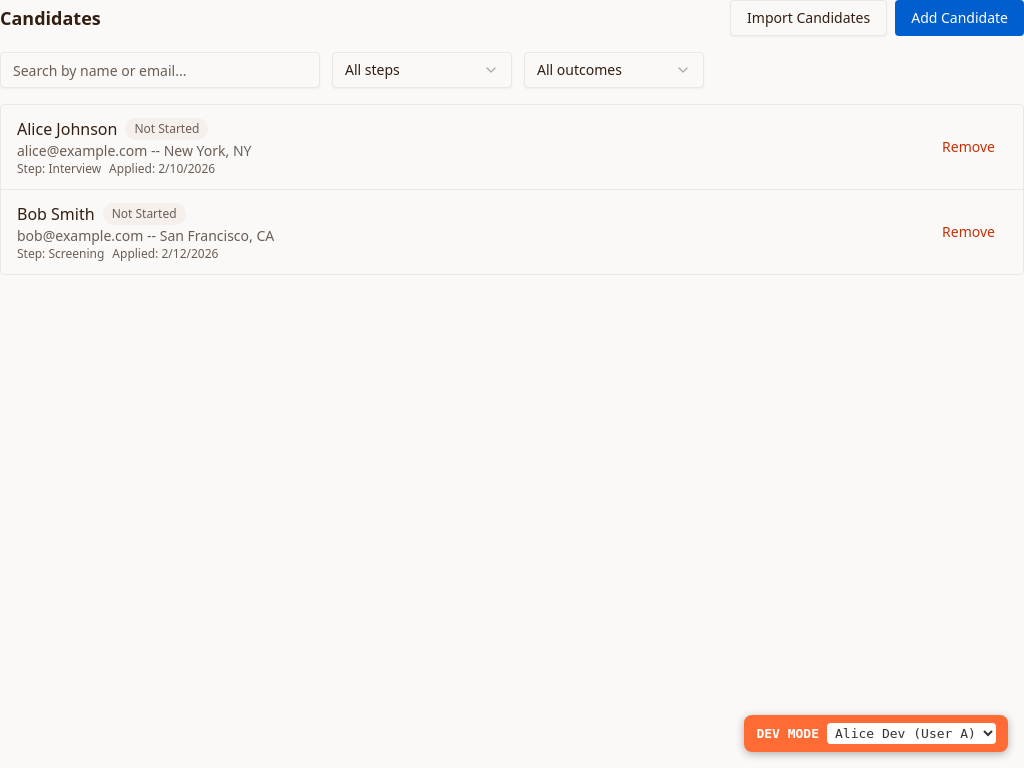
Test: CandidateList › should show confirmation dialog when remove is clicked
Expected: the link "Alice Johnson" is shown, top-left (17, 117), bottom-right (117, 141)
Step 1. Click the button "Remove" in the row of "-- New York, NY" → (969, 147), box top-left (930, 131), bottom-right (1007, 163)
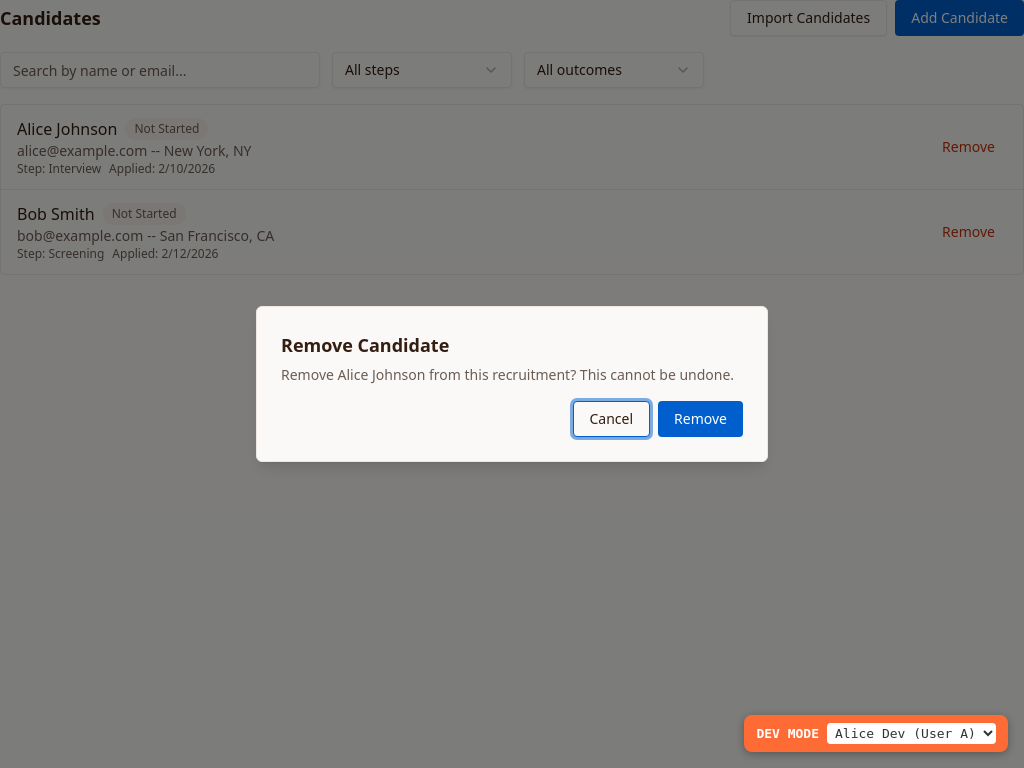
Now the text "Remove Alice Johnson" is shown, box top-left (281, 365), bottom-right (734, 385)
Now the text "This cannot be undone" is shown, box top-left (425, 365), bottom-right (734, 384)
